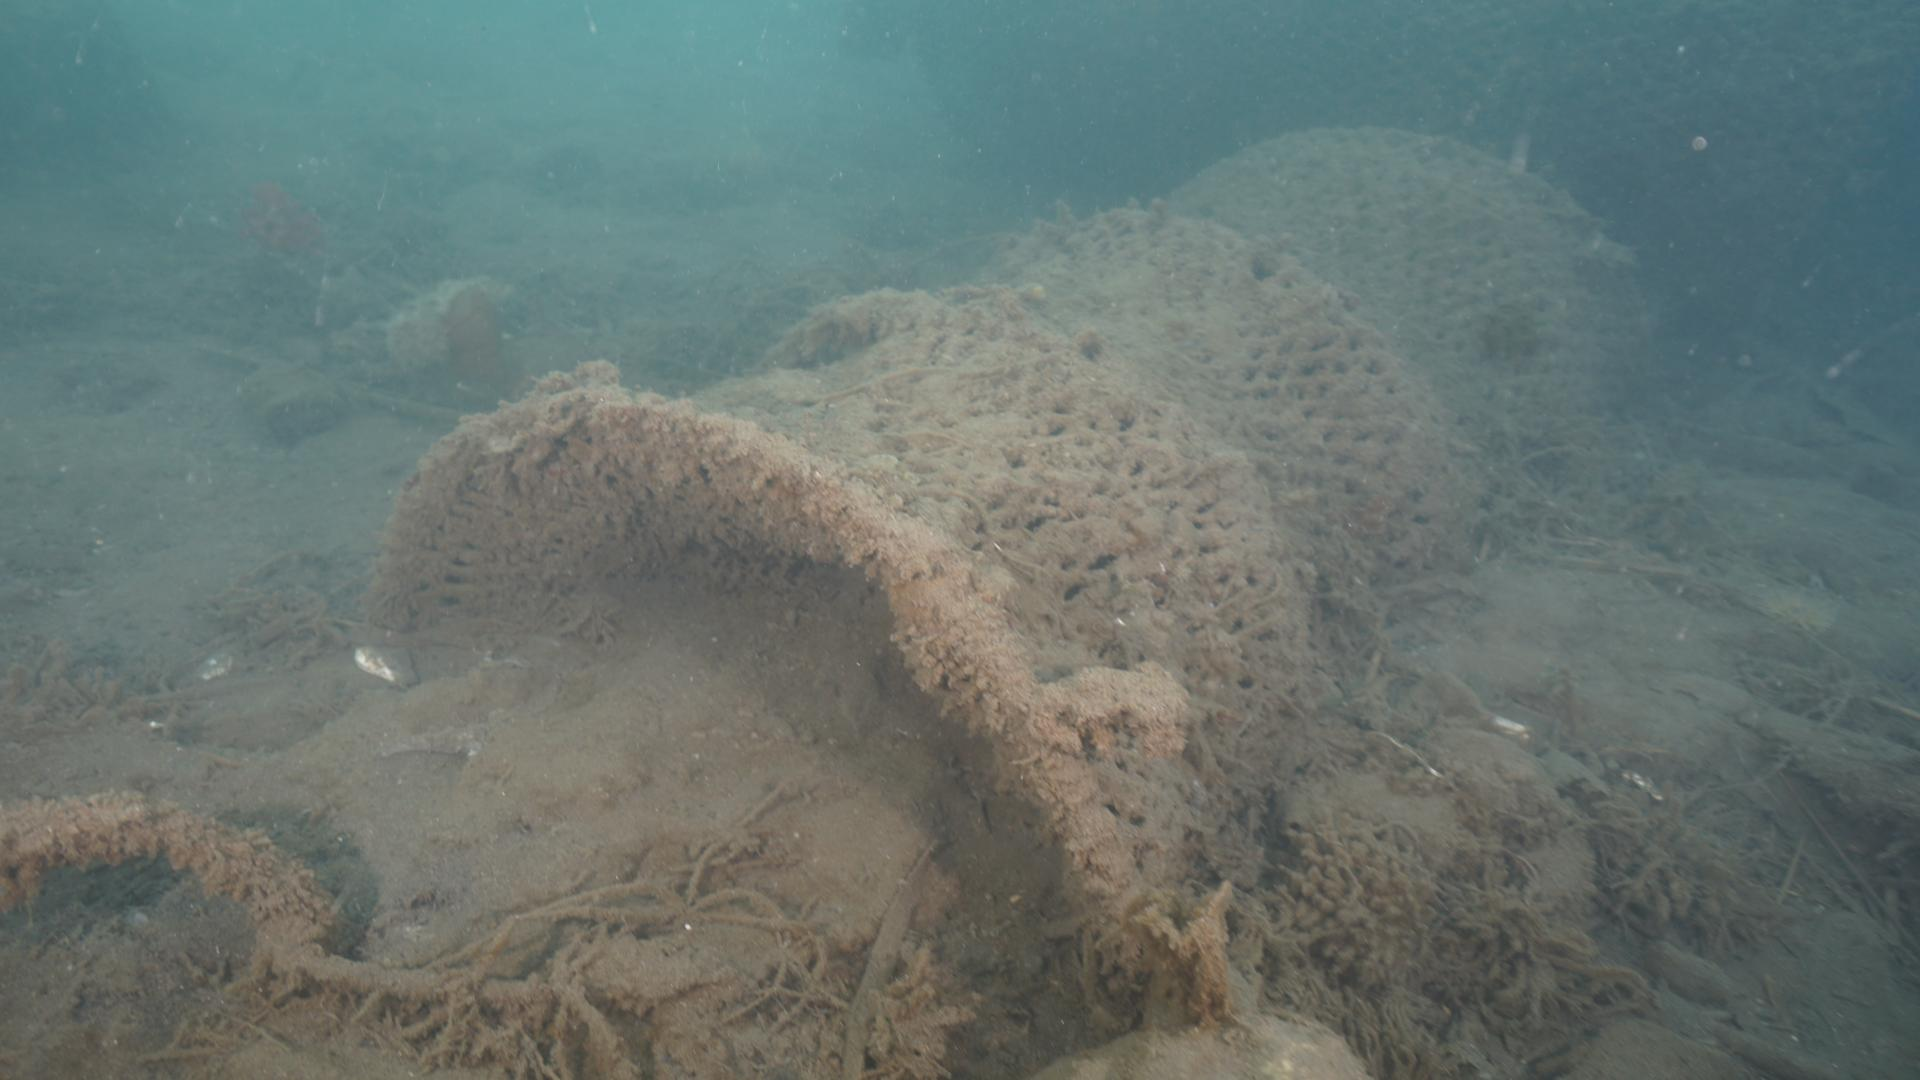spring fish trap: (363, 113, 1668, 980)
